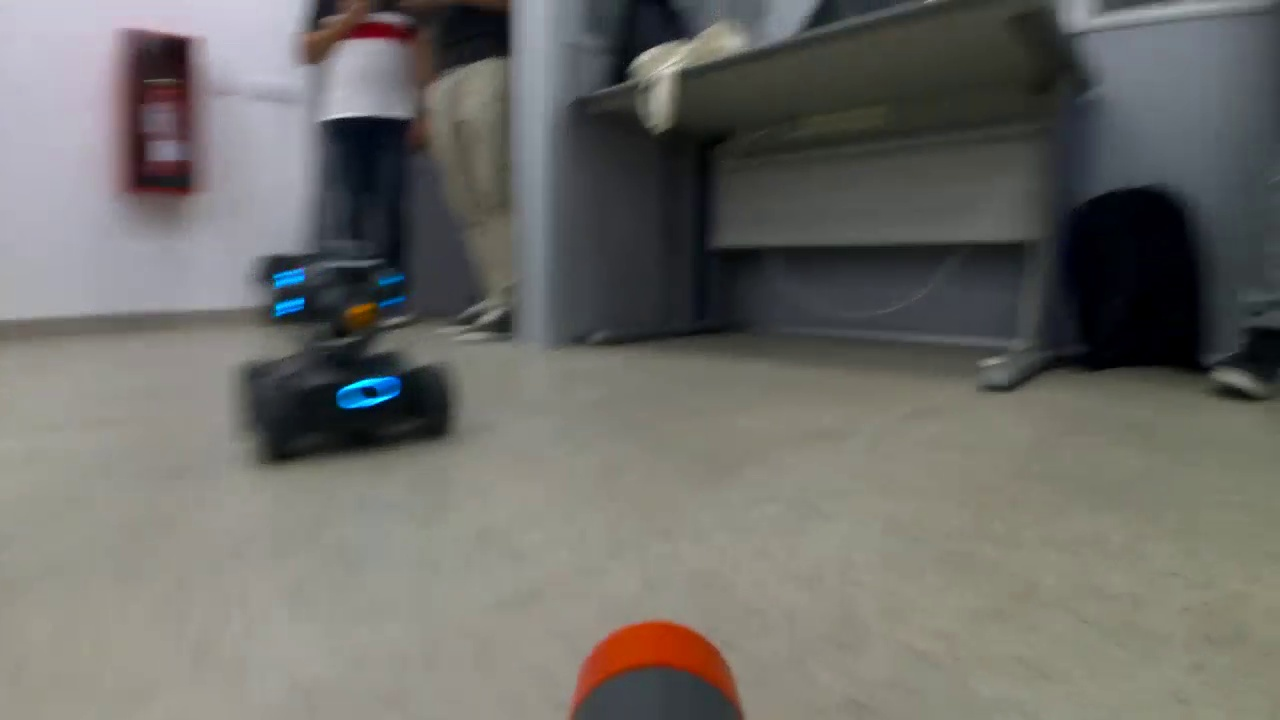robot: (227, 238, 464, 462)
